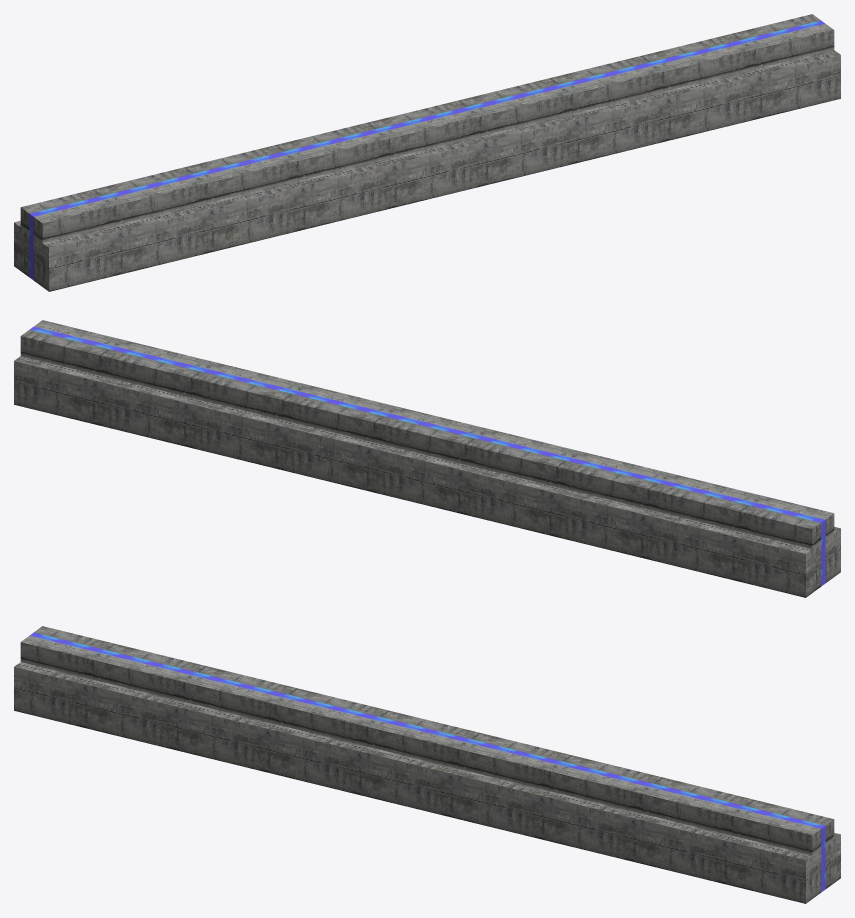
The model's file is EnergyLine2.fbx.
The picture shows the model from 3 angles, top to bottom: view 1: azimuth 30°, elevation 25°; view 2: azimuth 150°, elevation 25°; view 3: azimuth 330°, elevation 25°; orthographic projection.
Visible parts, largest first — view 1: Object; view 2: Object; view 3: Object.
Boxes of the visible parts, box(x1,y1,x2,y2) form: Object: box(14, 14, 840, 291); Object: box(14, 320, 840, 597); Object: box(14, 626, 840, 903).
Size of the model in its own units: 20800 by 1600 by 1600.
